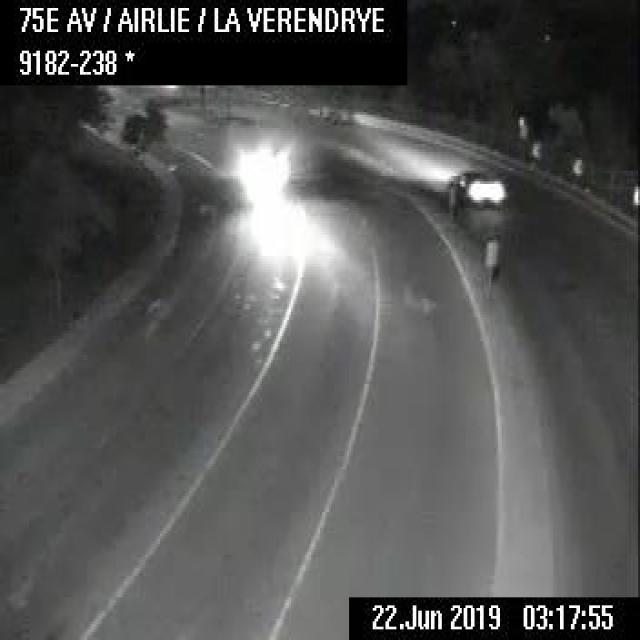vehicle: (227, 138, 293, 202), (442, 165, 502, 203)
